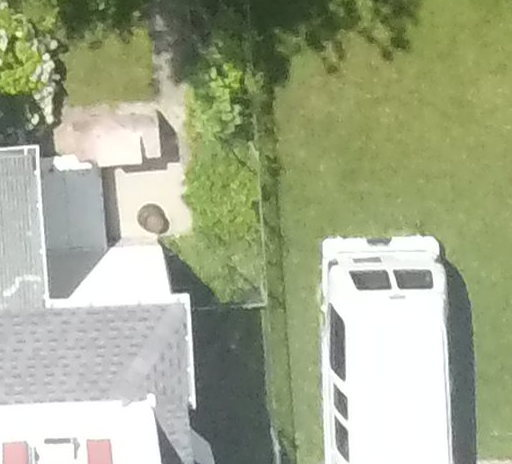car: (310, 218, 496, 464)
container: (132, 193, 170, 243)
fence: (234, 5, 299, 464)
